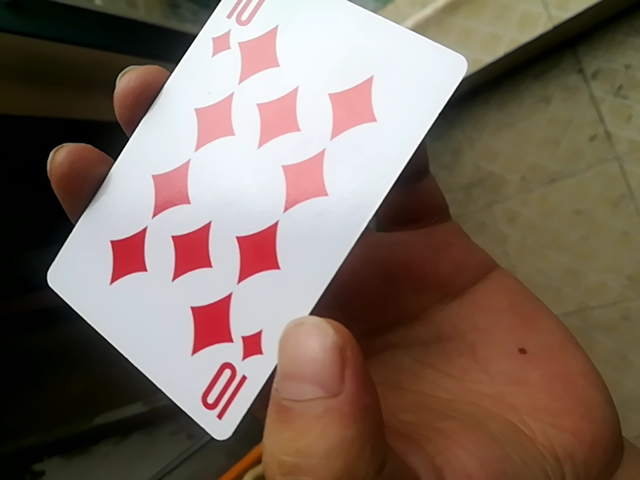fk 10: (38, 5, 474, 451)
